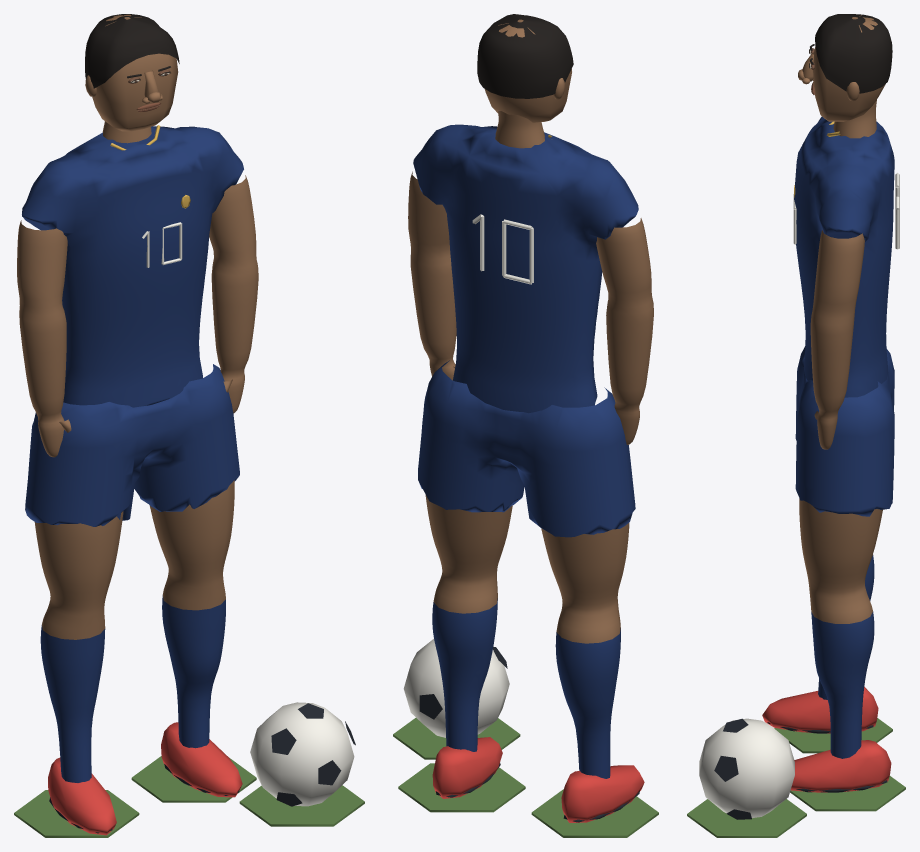
File: mbappe.glb
The picture shows the model from 3 angles, left to right: view 1: azimuth 30°, elevation 25°; view 2: azimuth 150°, elevation 25°; view 3: azimuth 270°, elevation 25°; orthographic projection. The views are drawn at different scales.
Parts seen in each view (by area): view 1: jersey_navy, shorts_navy, arms_dark, legs_dark, legs_navy, turf_grass, football_white, boots_red, head_dark, hair_cap_blackHair, football_panels_ink; view 2: jersey_navy, shorts_navy, arms_dark, legs_dark, legs_navy, turf_grass, hair_cap_blackHair, boots_red, football_white, head_dark, neck_dark, back_number_white (+1 smaller); view 3: jersey_navy, shorts_navy, arms_dark, legs_dark, football_white, legs_navy, boots_red, turf_grass, hair_cap_blackHair, head_dark, football_panels_ink, neck_dark.
Part boxes in pixels (left/top/right/bottom): jersey_navy: left=22, top=126, right=243, bottom=407; shorts_navy: left=25, top=364, right=239, bottom=526; arms_dark: left=17, top=175, right=258, bottom=457; legs_dark: left=34, top=480, right=234, bottom=639; legs_navy: left=40, top=595, right=225, bottom=782; turf_grass: left=14, top=756, right=364, bottom=837; football_white: left=250, top=702, right=354, bottom=806; boots_red: left=48, top=722, right=242, bottom=835; head_dark: left=92, top=14, right=178, bottom=131; hair_cap_blackHair: left=85, top=14, right=179, bottom=88; football_panels_ink: left=271, top=703, right=355, bottom=806; jersey_navy: left=413, top=124, right=638, bottom=413; shorts_navy: left=418, top=360, right=635, bottom=537; arms_dark: left=408, top=171, right=653, bottom=444; legs_dark: left=425, top=494, right=629, bottom=643; legs_navy: left=432, top=598, right=620, bottom=778; turf_grass: left=393, top=718, right=658, bottom=837; hair_cap_blackHair: left=477, top=14, right=573, bottom=98; boots_red: left=432, top=737, right=644, bottom=822; football_white: left=403, top=639, right=509, bottom=737; head_dark: left=484, top=19, right=571, bottom=122; neck_dark: left=495, top=111, right=544, bottom=148; back_number_white: left=472, top=214, right=533, bottom=284; jersey_navy: left=794, top=116, right=894, bottom=397; shorts_navy: left=795, top=346, right=894, bottom=516; arms_dark: left=810, top=230, right=864, bottom=449; legs_dark: left=799, top=498, right=882, bottom=623; football_white: left=699, top=718, right=794, bottom=817; legs_navy: left=811, top=555, right=874, bottom=758; boots_red: left=762, top=686, right=891, bottom=792; turf_grass: left=687, top=718, right=905, bottom=837; hair_cap_blackHair: left=815, top=14, right=892, bottom=93; head_dark: left=813, top=15, right=885, bottom=121; football_panels_ink: left=714, top=718, right=751, bottom=819; neck_dark: left=833, top=100, right=876, bottom=138.
Size of the model in its own units: 0.6801 by 1.78 by 0.4758.
